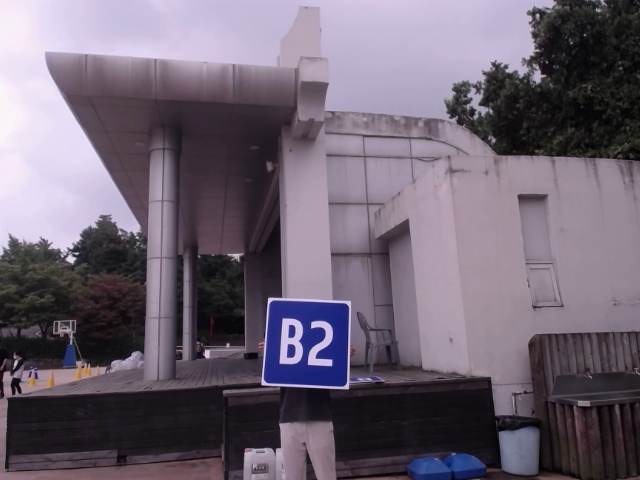delivery_b2: (261, 298, 350, 389)
